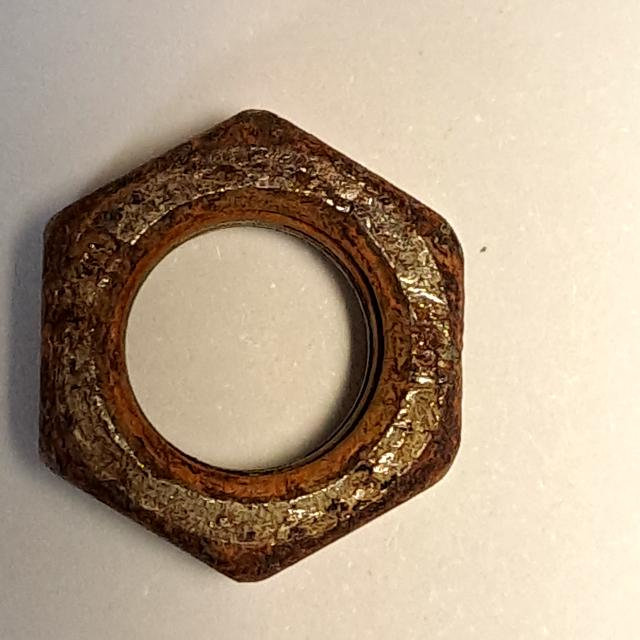Rust: (29, 93, 477, 595)
